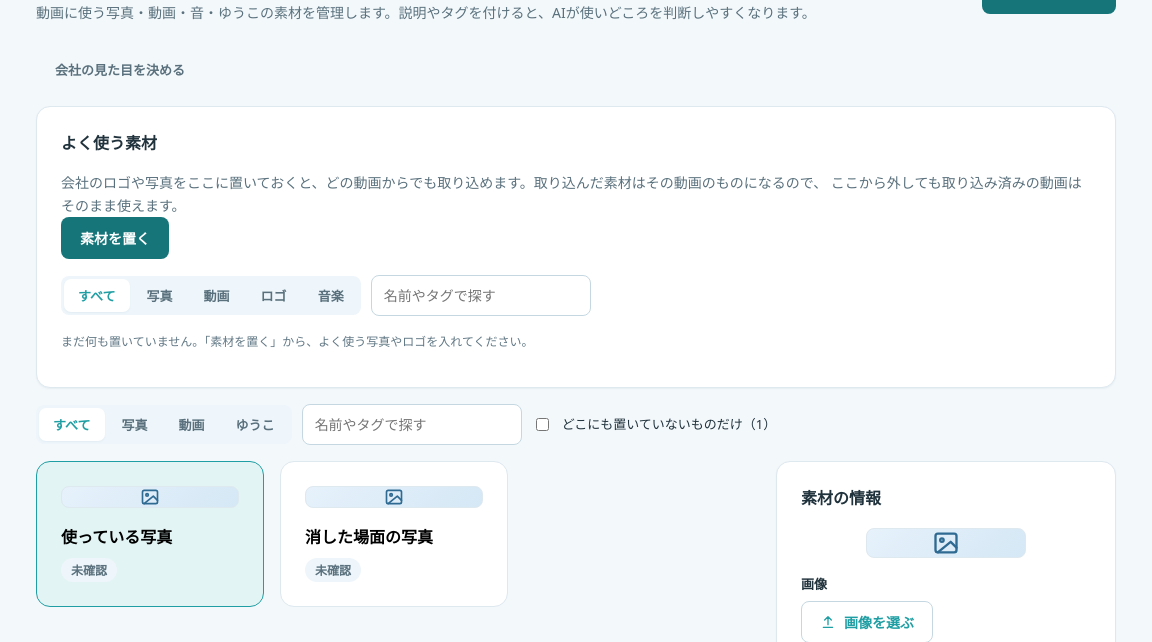
MaterialsScreen 取り消しで戻る場面が指す素材 › 履歴にも無ければ、これまでどおり「どの場面でも使われていません」
The image size is (1152, 642).
Click the button "消した場面の写真 未確認" at (394, 534), box left=280, top=461, right=508, bottom=607
(page scrolled)
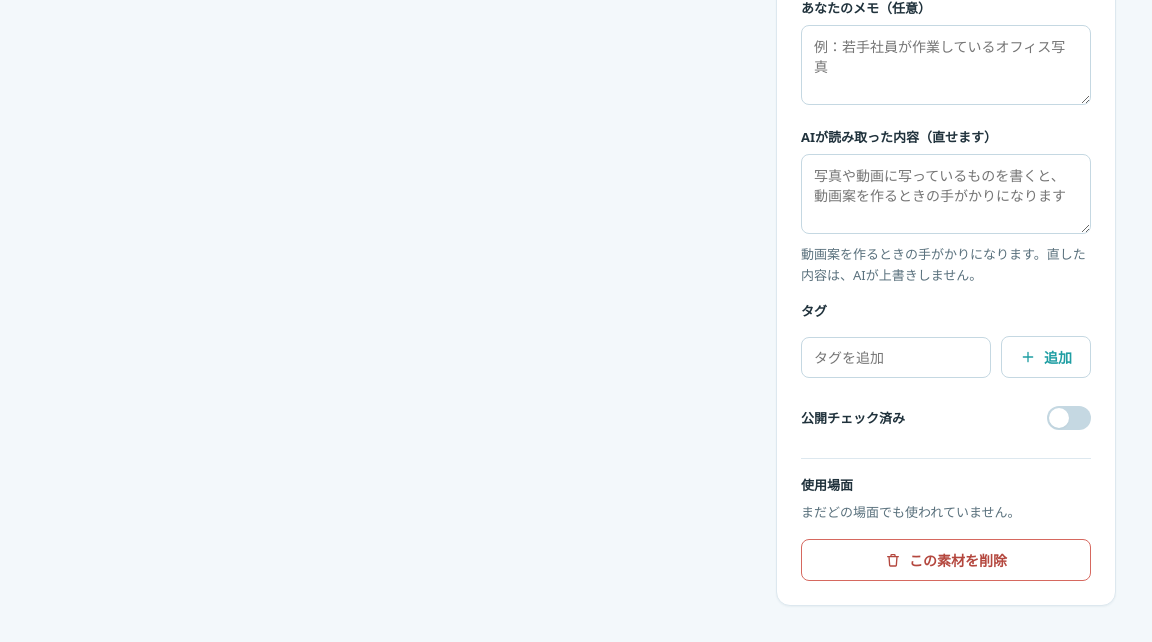
Click the button "この素材を削除" at (946, 560), box left=801, top=539, right=1091, bottom=581
(page scrolled)
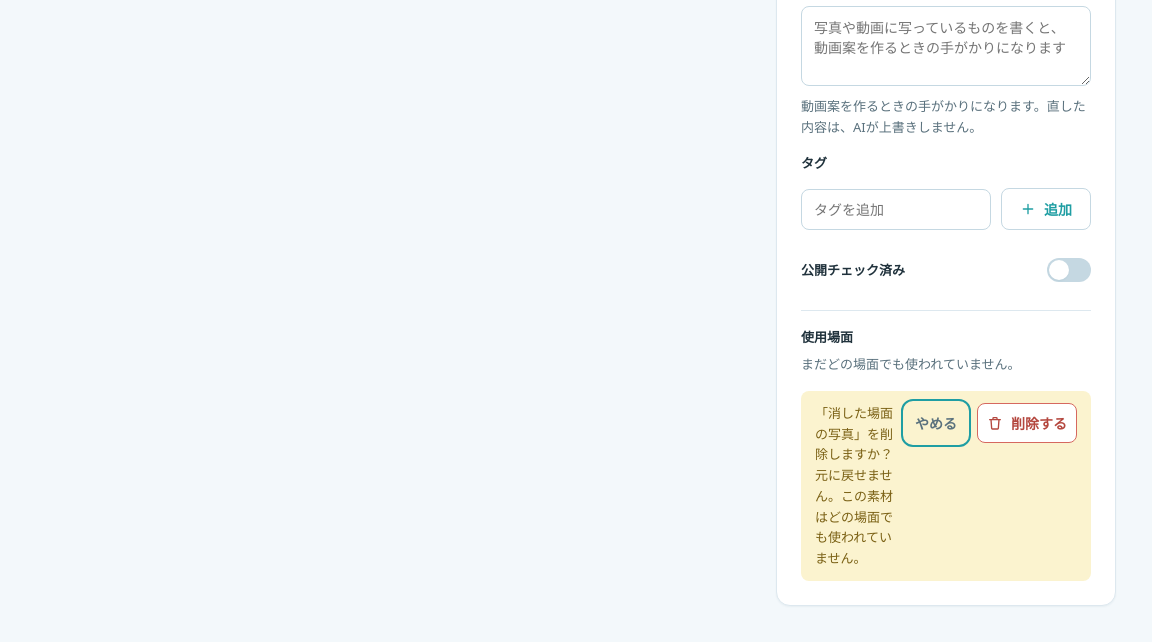
Expected: the text "「消した場面の写真」を削除しますか？元に戻せません。この素材はどの場面でも使われていません。" is shown, left=815, top=403, right=895, bottom=569
